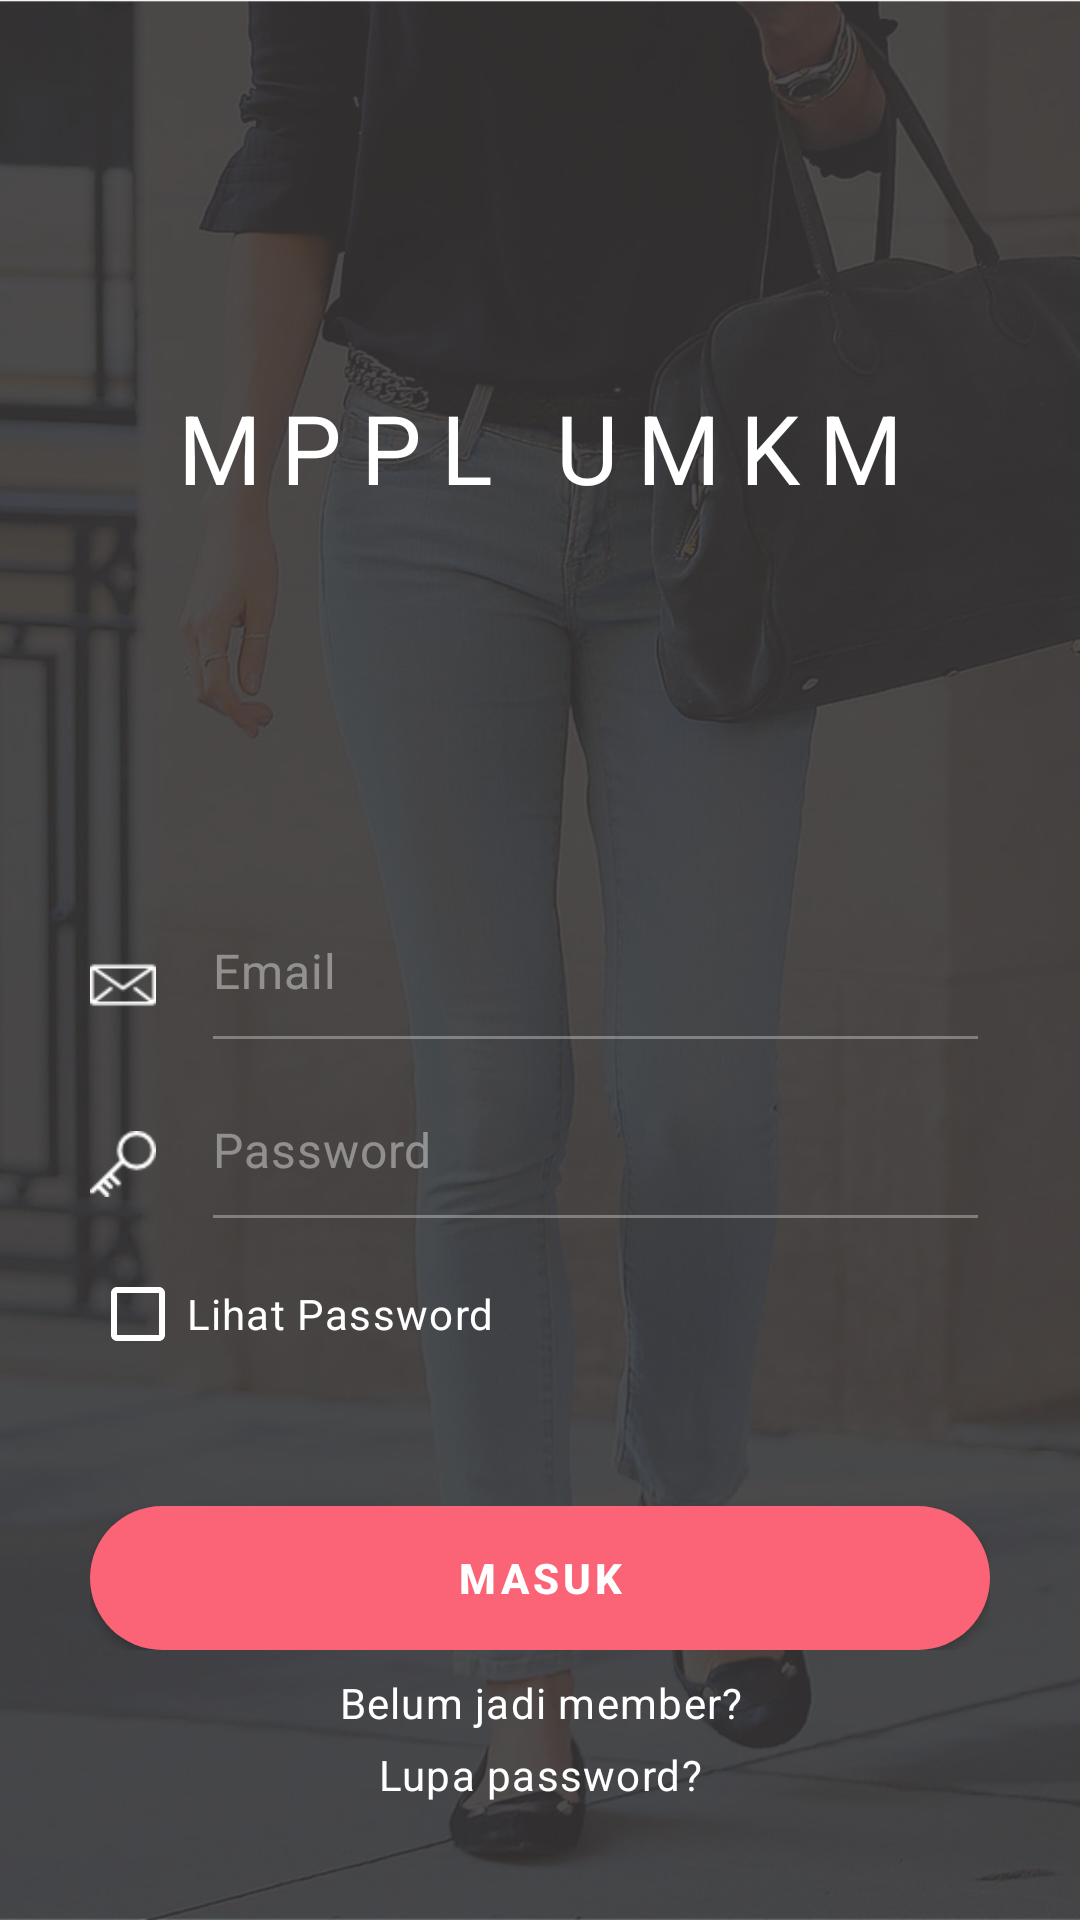

Where icons sit on this 1080×1920 app screen, as (x1, y1, x2, y2):
envelope: (90, 964, 156, 1006)
key: (90, 1131, 156, 1197)
